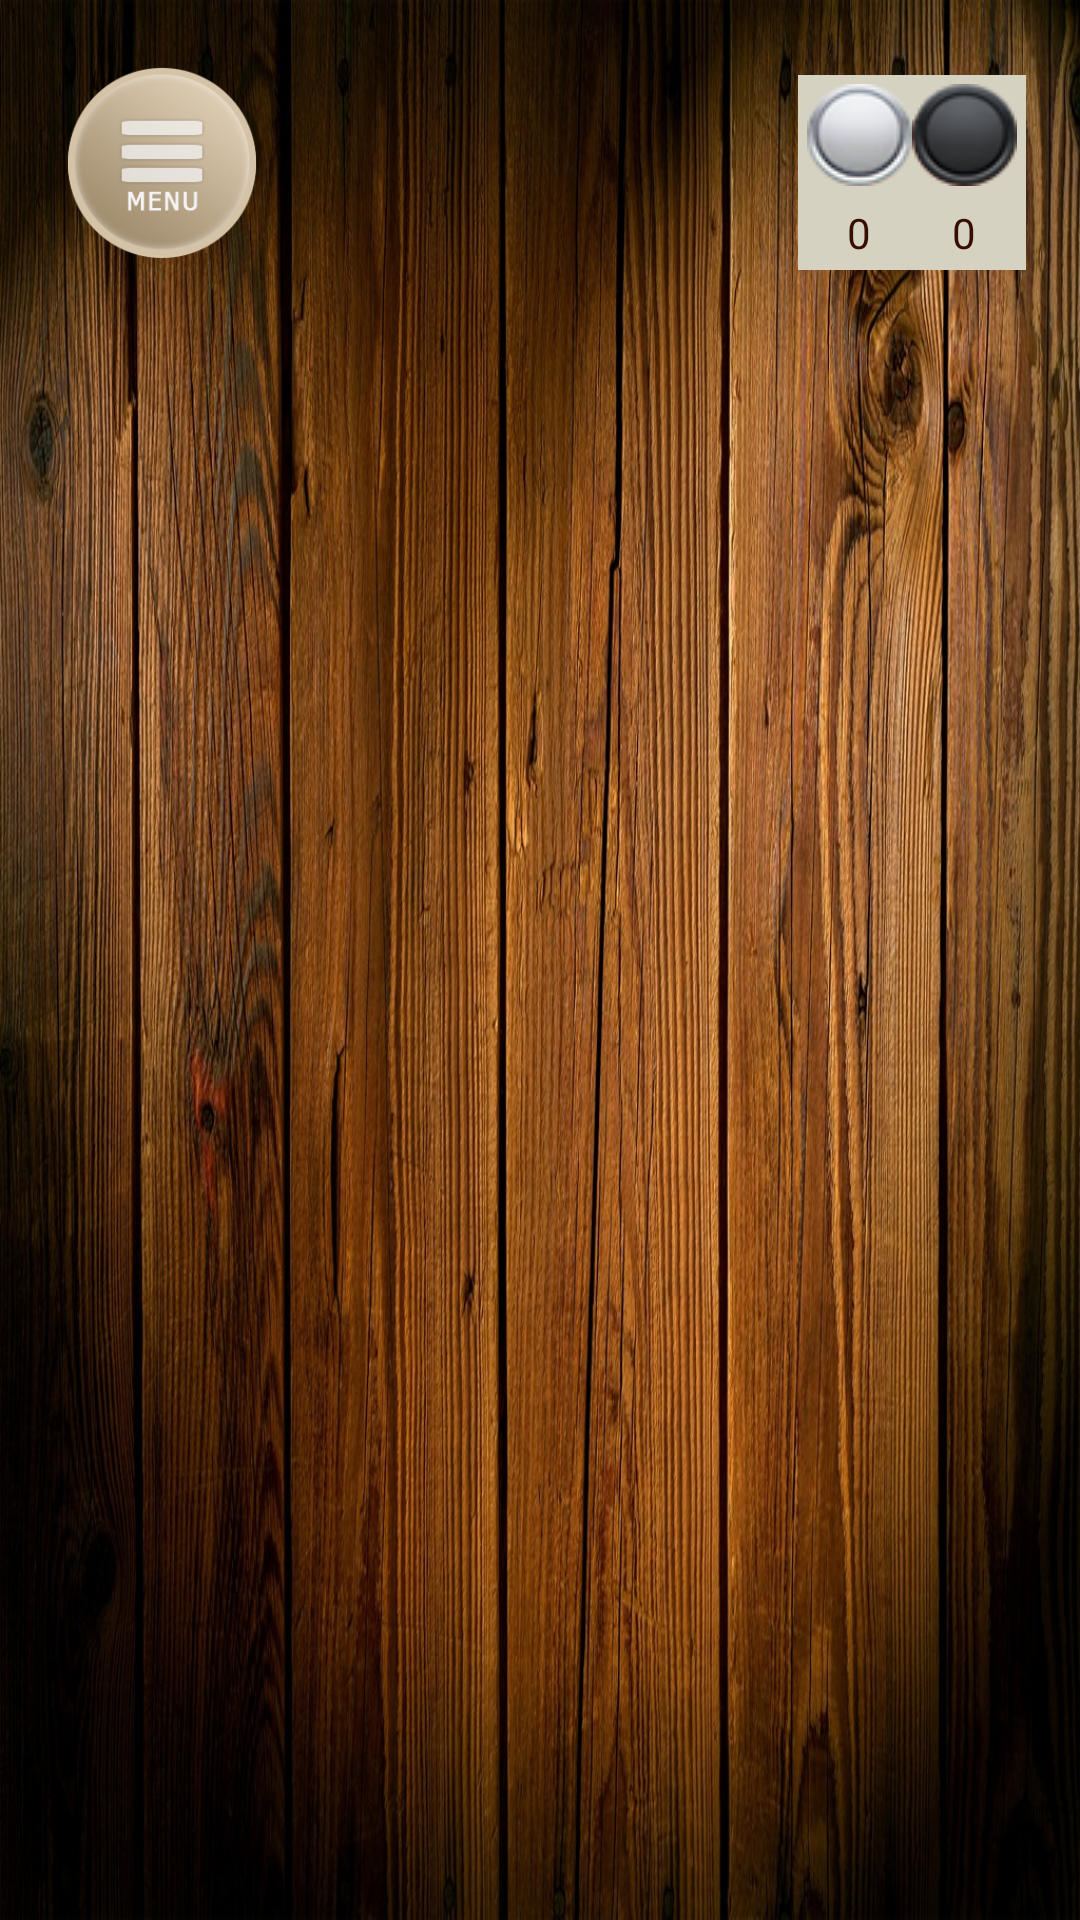

Screen size 1080w x 1920h. Icon name, then its center in pixels as (x,y):
stone: (859,135), (964,135)
